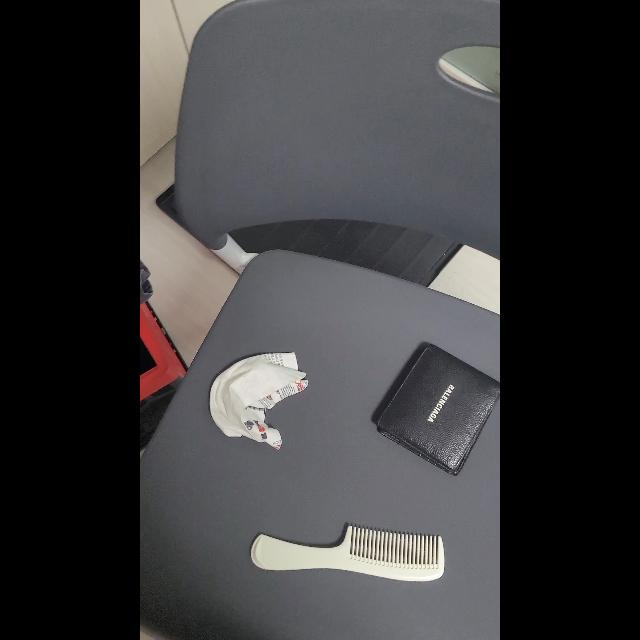COMB: (251, 526, 445, 582)
Glasses cleaning cloth: (210, 350, 308, 450)
WALLET: (376, 344, 500, 476)
